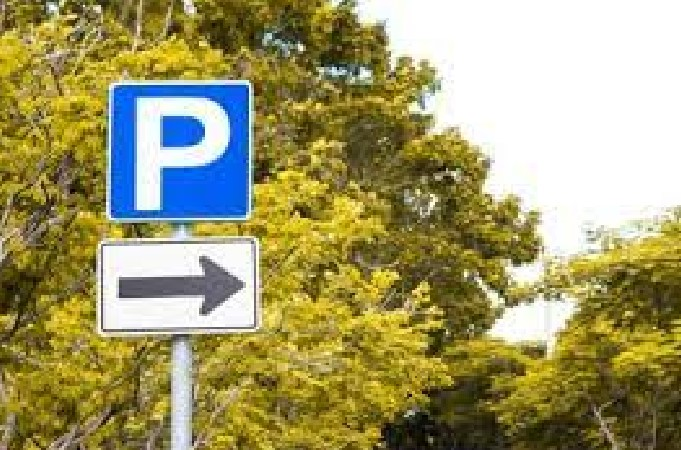Parking: (104, 78, 251, 225)
